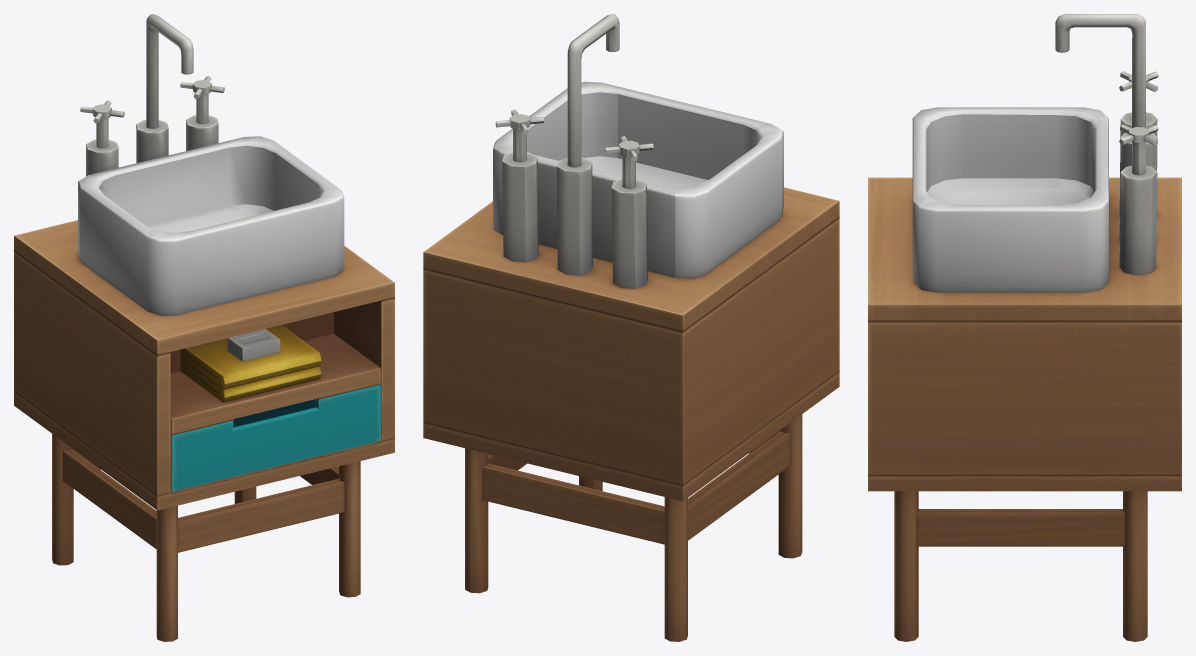
Rendered from 浴室洗漱台.glb.
3 renders of one model, left to right at view 1: azimuth 30°, elevation 25°; view 2: azimuth 150°, elevation 25°; view 3: azimuth 270°, elevation 25°, orthographic. The views are drawn at different scales.
Parts seen in each view (by area): view 1: TinyLiving_TheSinkzBathroomVanity_32; view 2: TinyLiving_TheSinkzBathroomVanity_32; view 3: TinyLiving_TheSinkzBathroomVanity_32.
Boxes of the visible parts, x1,y1,x2,y2 form: TinyLiving_TheSinkzBathroomVanity_32: [14, 14, 394, 641]; TinyLiving_TheSinkzBathroomVanity_32: [423, 14, 839, 641]; TinyLiving_TheSinkzBathroomVanity_32: [868, 14, 1181, 641].
Bounding box in the file's own units: 0.6502 × 1.37 × 0.6793.
1 material, 1 textured.
